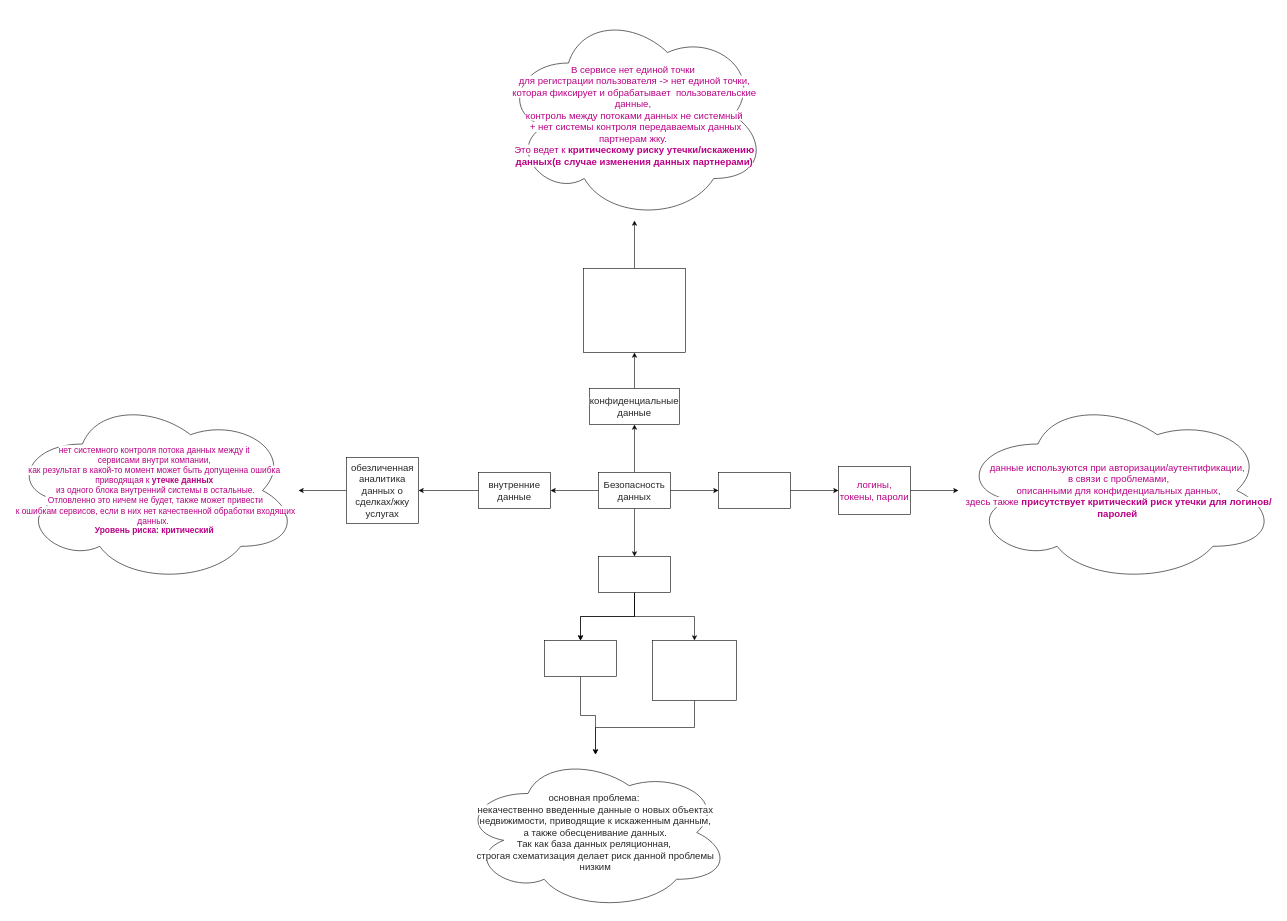
The diagram is 1287 pixels wide and 921 high, and some of its shapes have lost their labels. Here are the shapes that lost their labels. From the top down, the centre of each, then its label:
At (x=634, y=310): "пользовательская/клиентская информация(имя/контактные данные итд)".
At (x=754, y=490): "секретные данные".
At (x=634, y=574): "публичные данные".
At (x=580, y=658): "объекты недвижимости".
At (x=694, y=670): "перечень партнеров жку/предоставляемых жку услуг".
